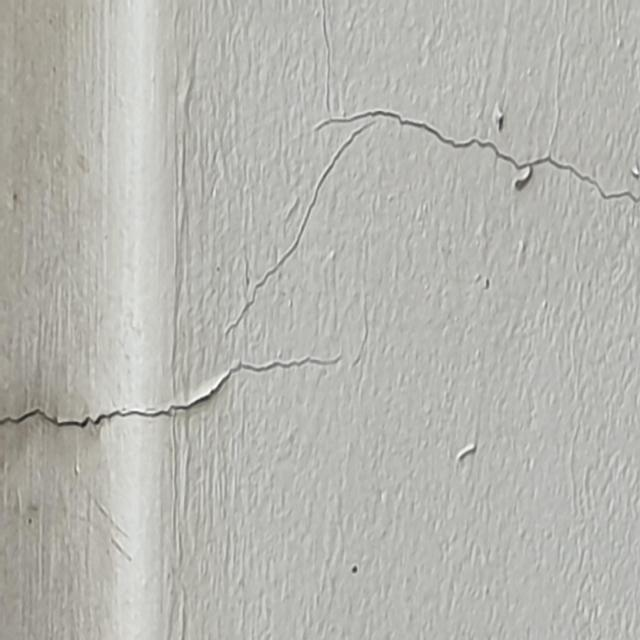SurfaceCrack: (224, 92, 638, 314)
